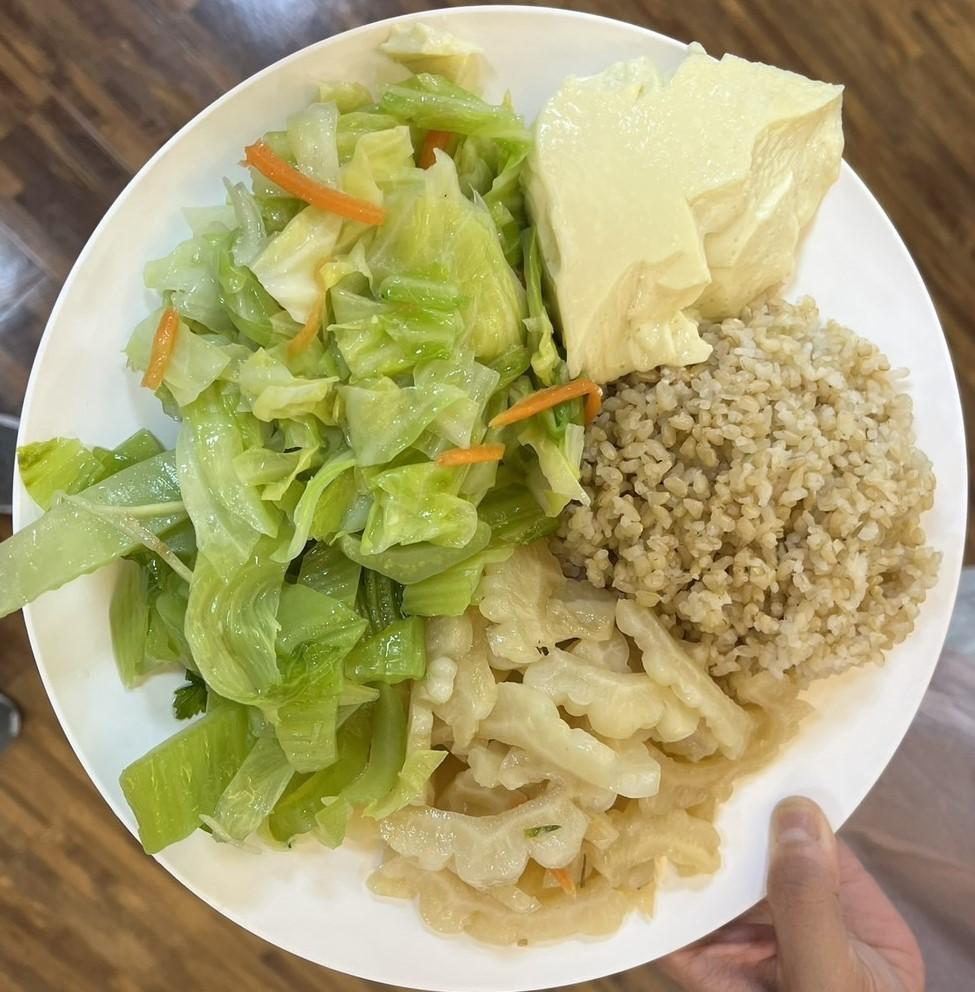big fried chicken leg: (16, 2, 975, 990)
box: (564, 308, 926, 675)
braised fish fillet: (137, 70, 532, 554), (395, 554, 769, 936), (532, 52, 852, 362), (100, 552, 409, 843)
